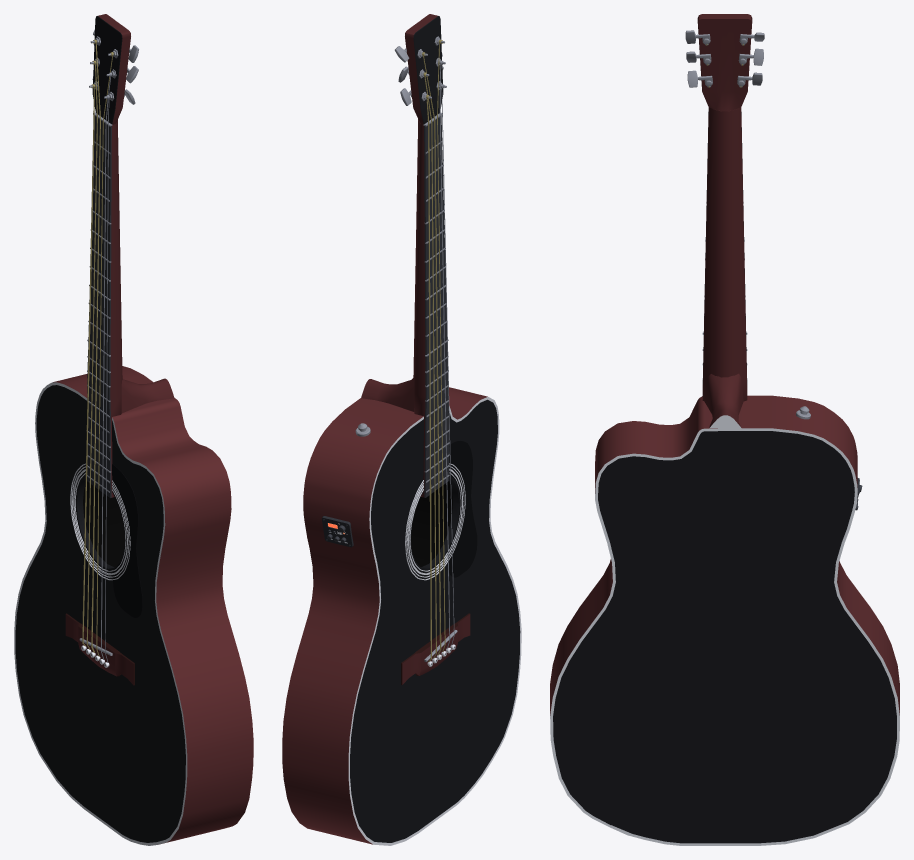
3 renders of one model, left to right at view 1: azimuth 30°, elevation 25°; view 2: azimuth 150°, elevation 25°; view 3: azimuth 270°, elevation 25°, orthographic.
Visible parts, largest first — view 1: polySurface101; view 2: polySurface101; view 3: polySurface101.
Boxes of the visible parts, x1,y1,x2,y2 form: polySurface101: (14,14,253,845); polySurface101: (282,14,521,845); polySurface101: (550,14,899,845).
Size of the model in its own units: 1.77 by 18.32 by 7.14.
